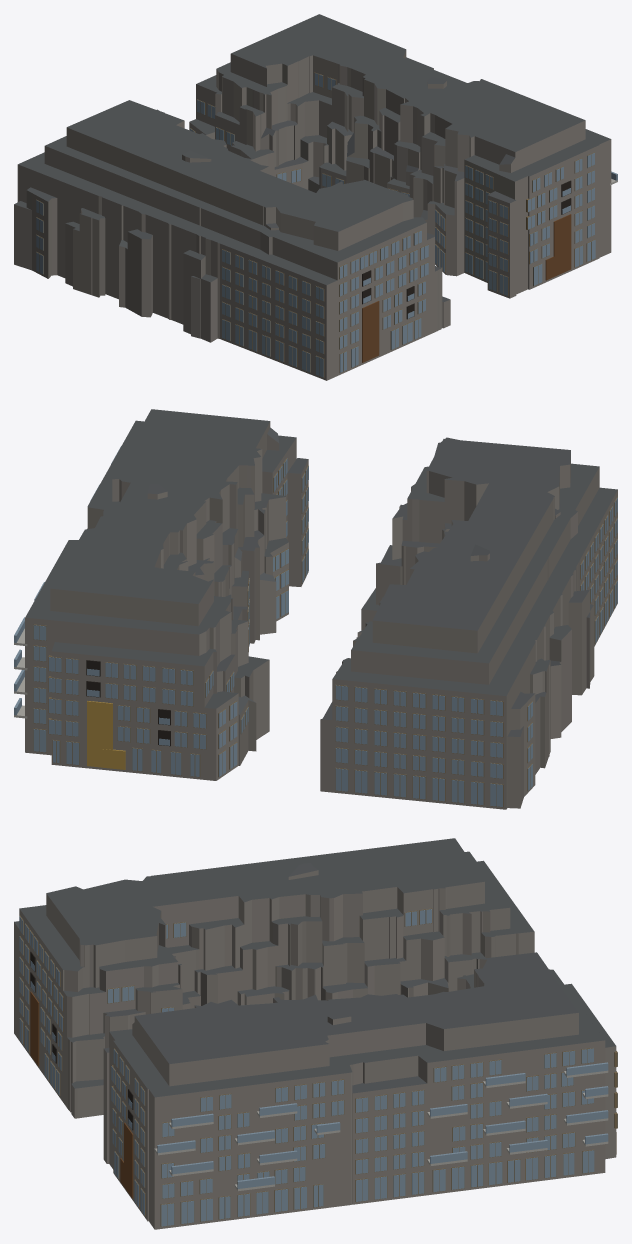
The model's file is ceramiquelaan-437.glb.
3 renders of one model, top to bottom at view 1: azimuth 30°, elevation 25°; view 2: azimuth 150°, elevation 25°; view 3: azimuth 270°, elevation 25°, orthographic. The views are drawn at different scales.
Visible parts, largest first — view 1: ceramiquelaan-437; view 2: ceramiquelaan-437; view 3: ceramiquelaan-437.
Boxes of the visible parts, bbox=[...] form: ceramiquelaan-437: bbox=[14, 14, 617, 380]; ceramiquelaan-437: bbox=[14, 409, 617, 809]; ceramiquelaan-437: bbox=[14, 838, 617, 1229].
Bounding box in the file's own units: 84.58 × 23.74 × 80.95.
